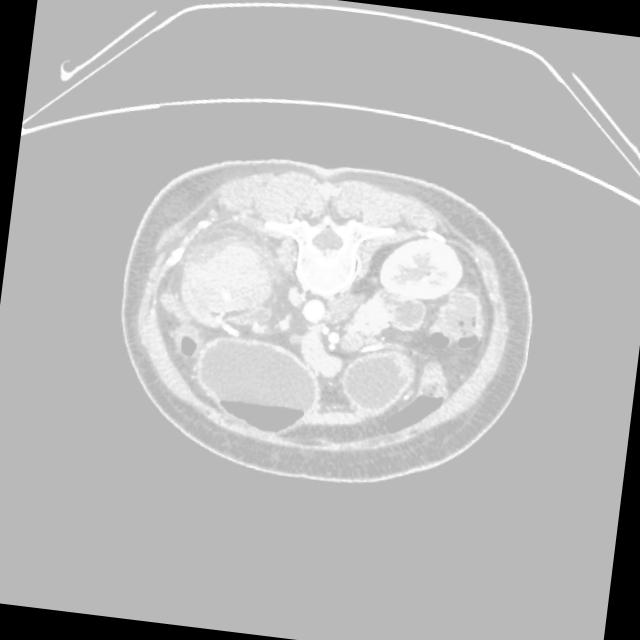TUMOR: (122, 274, 471, 440)
